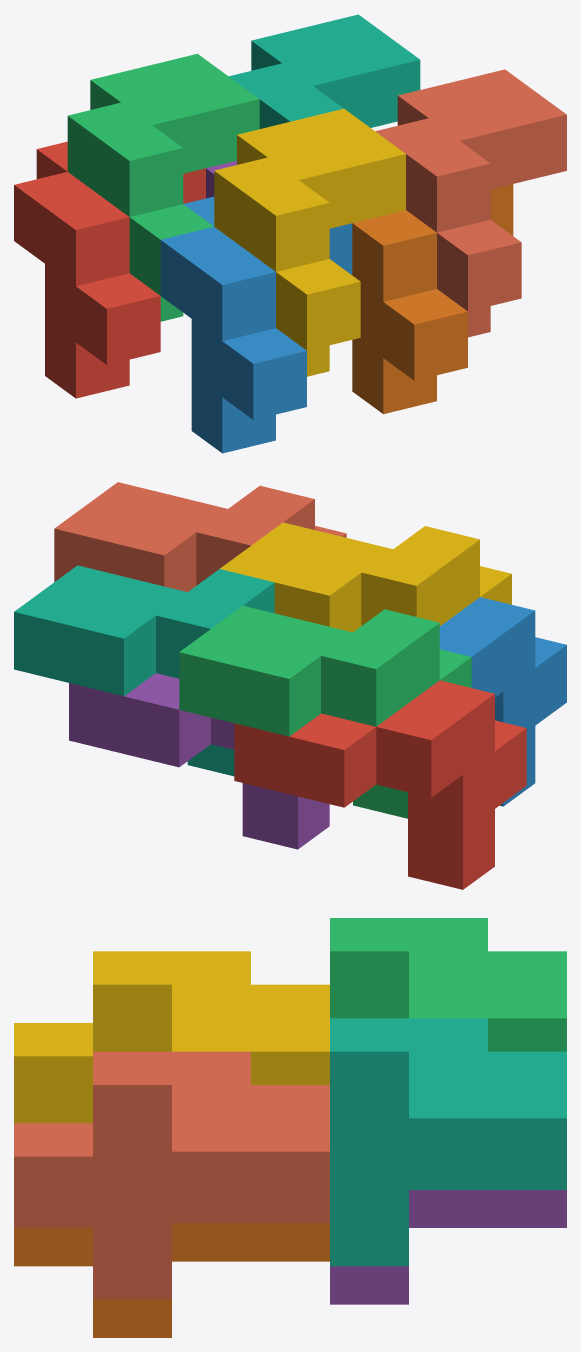
File: tiling.obj
3 views of the same model, one above another, from view 1: azimuth 30°, elevation 25°; view 2: azimuth 150°, elevation 25°; view 3: azimuth 270°, elevation 25° (orthographic). The views are drawn at different scales.
Parts seen in each view (by area): view 1: copy_1_domain_4, copy_1_domain_8, copy_1_domain_3, copy_1_domain_1, copy_1_domain_2, copy_1_domain_6, copy_1_domain_7; view 2: copy_1_domain_1, copy_1_domain_3, copy_1_domain_7, copy_1_domain_4, copy_1_domain_8, copy_1_domain_5, copy_1_domain_2; view 3: copy_1_domain_8, copy_1_domain_7, copy_1_domain_4, copy_1_domain_3, copy_1_domain_6, copy_1_domain_5.
Part boxes in pixels (x1,y1,x2,y2): copy_1_domain_4: [214, 108, 405, 376]; copy_1_domain_8: [375, 69, 566, 337]; copy_1_domain_3: [67, 53, 259, 321]; copy_1_domain_1: [14, 141, 205, 398]; copy_1_domain_2: [160, 196, 352, 453]; copy_1_domain_6: [352, 184, 513, 414]; copy_1_domain_7: [229, 14, 420, 128]; copy_1_domain_1: [234, 680, 526, 889]; copy_1_domain_3: [179, 605, 471, 818]; copy_1_domain_7: [14, 565, 274, 776]; copy_1_domain_4: [220, 522, 511, 632]; copy_1_domain_8: [54, 482, 346, 591]; copy_1_domain_5: [69, 673, 329, 849]; copy_1_domain_2: [439, 597, 566, 806]; copy_1_domain_8: [14, 1051, 329, 1299]; copy_1_domain_7: [330, 1018, 566, 1266]; copy_1_domain_4: [14, 951, 329, 1123]; copy_1_domain_3: [330, 918, 566, 1051]; copy_1_domain_6: [14, 1223, 329, 1337]; copy_1_domain_5: [330, 1190, 566, 1304].
Size of the model in its own units: 8 by 4 by 7.
